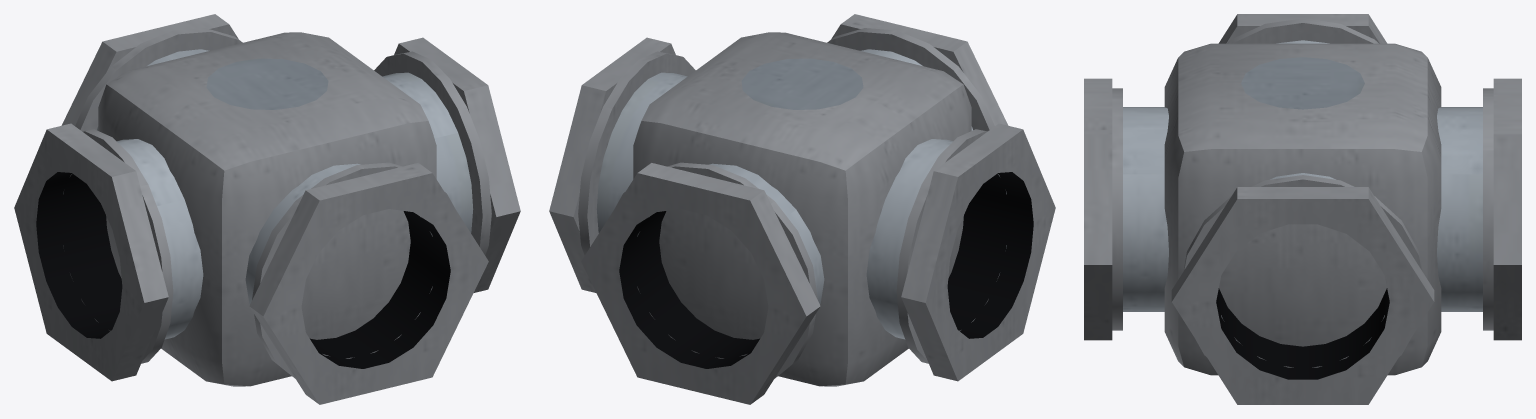
Rendered from small_pipe_cross.glb.
3 renders of one model, left to right at view 1: azimuth 30°, elevation 25°; view 2: azimuth 150°, elevation 25°; view 3: azimuth 270°, elevation 25°, orthographic.
Visible parts, largest first — view 1: Body.005; view 2: Body.005; view 3: Body.005.
Boxes of the visible parts, x1,y1,x2,y2 form: Body.005: (14, 14, 520, 404); Body.005: (549, 14, 1055, 404); Body.005: (1084, 14, 1521, 404).
Bounding box in the file's own units: 0.247 × 0.157 × 0.247.
4 materials, 3 textured.
